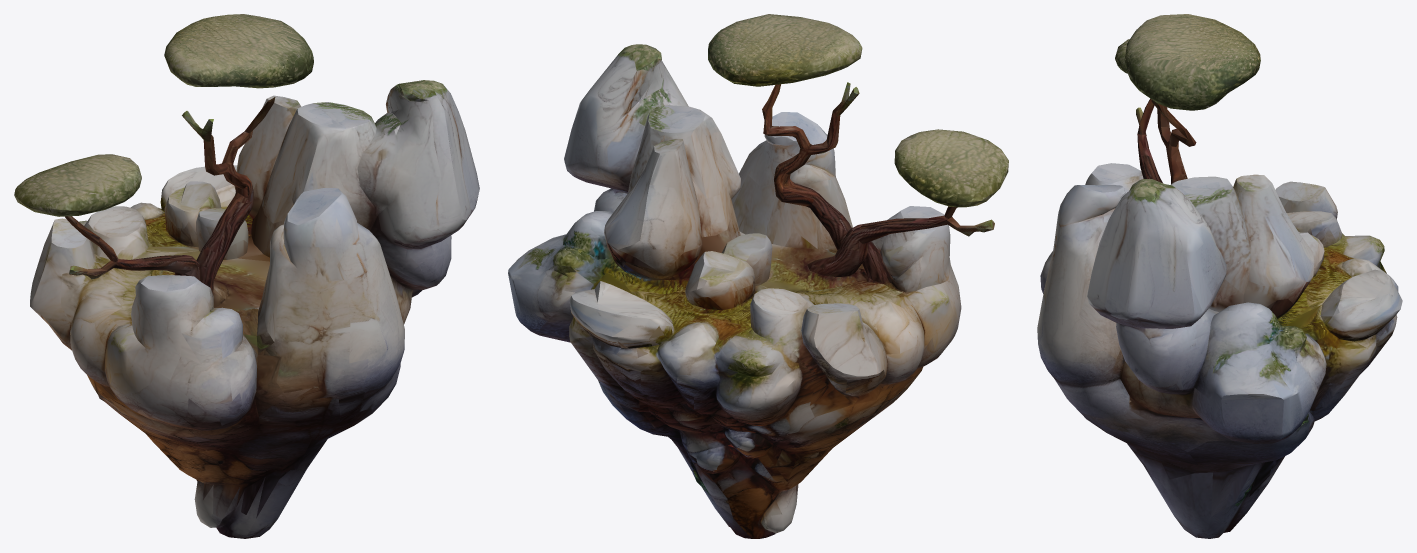
Rendered from free flying island.fbx_Scene.fbx.
The picture shows the model from 3 angles, left to right: view 1: azimuth 30°, elevation 25°; view 2: azimuth 150°, elevation 25°; view 3: azimuth 270°, elevation 25°; orthographic projection. The views are drawn at different scales.
Visible parts, largest first — view 1: texture_pbr_v128_LOD0_LOD2; view 2: texture_pbr_v128_LOD0_LOD2; view 3: texture_pbr_v128_LOD0_LOD2.
Boxes of the visible parts, left/top/right/bottom form: texture_pbr_v128_LOD0_LOD2: left=14, top=14, right=479, bottom=538; texture_pbr_v128_LOD0_LOD2: left=508, top=14, right=1008, bottom=538; texture_pbr_v128_LOD0_LOD2: left=1037, top=14, right=1402, bottom=538.
Bounding box in the file's own units: 208 × 224 × 154.
Materials: 1 (1 with a texture image).
